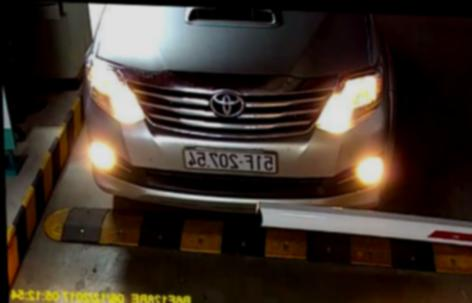License_Plate: (181, 145, 283, 174)
